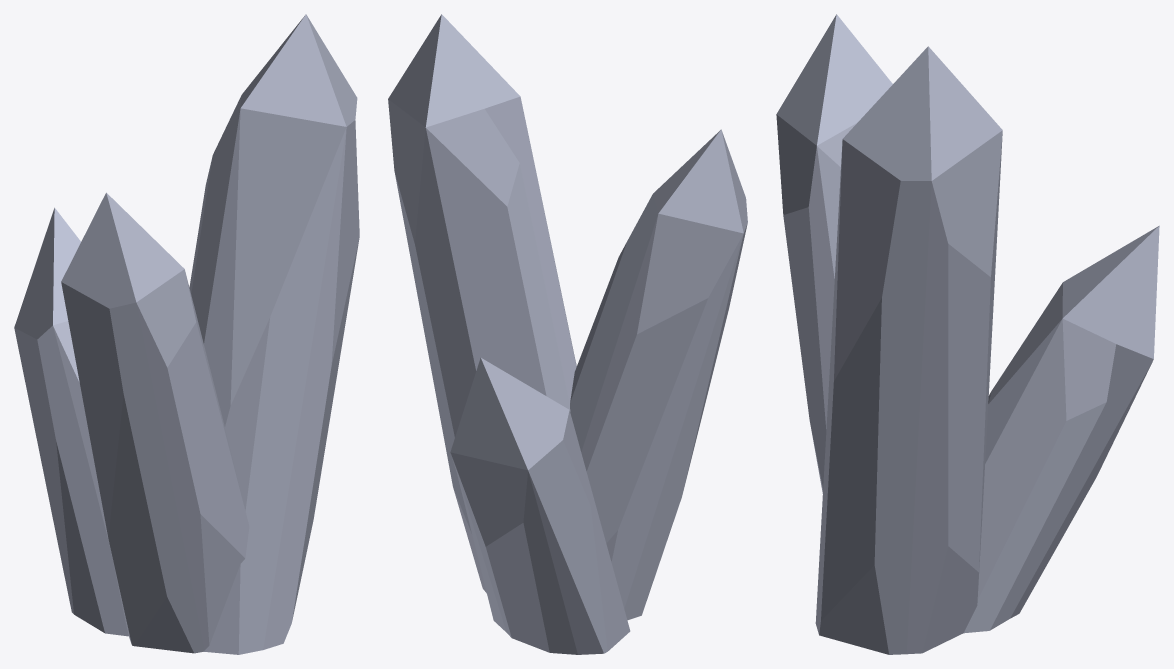
The model's file is crystals 3(1).fbx.
3 views of the same model, side by side, from view 1: azimuth 30°, elevation 25°; view 2: azimuth 150°, elevation 25°; view 3: azimuth 270°, elevation 25° (orthographic). The views are drawn at different scales.
Parts seen in each view (by area): view 1: crystals 3; view 2: crystals 3; view 3: crystals 3.
Part boxes in pixels (x1,y1,x2,y2): crystals 3: (14, 14, 359, 654); crystals 3: (388, 14, 747, 654); crystals 3: (776, 14, 1159, 654).
Size of the model in its own units: 95.51 by 160 by 88.36.
